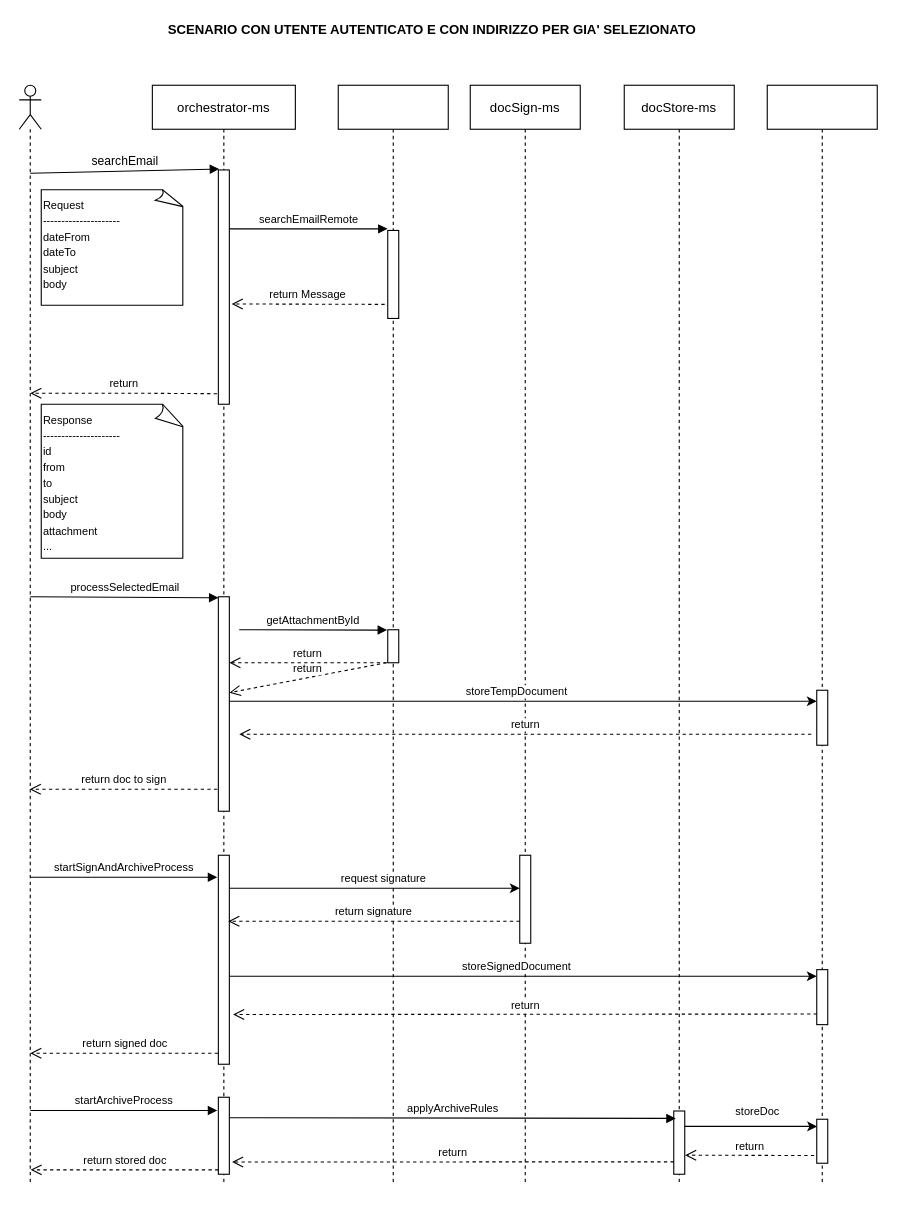
Some shapes in this 897 by 1205 pixel diagram are drawn without their labels. Each missing label, with the box of its shape:
DMS: (766, 84, 877, 1185)
email-ms: (337, 84, 448, 1185)
